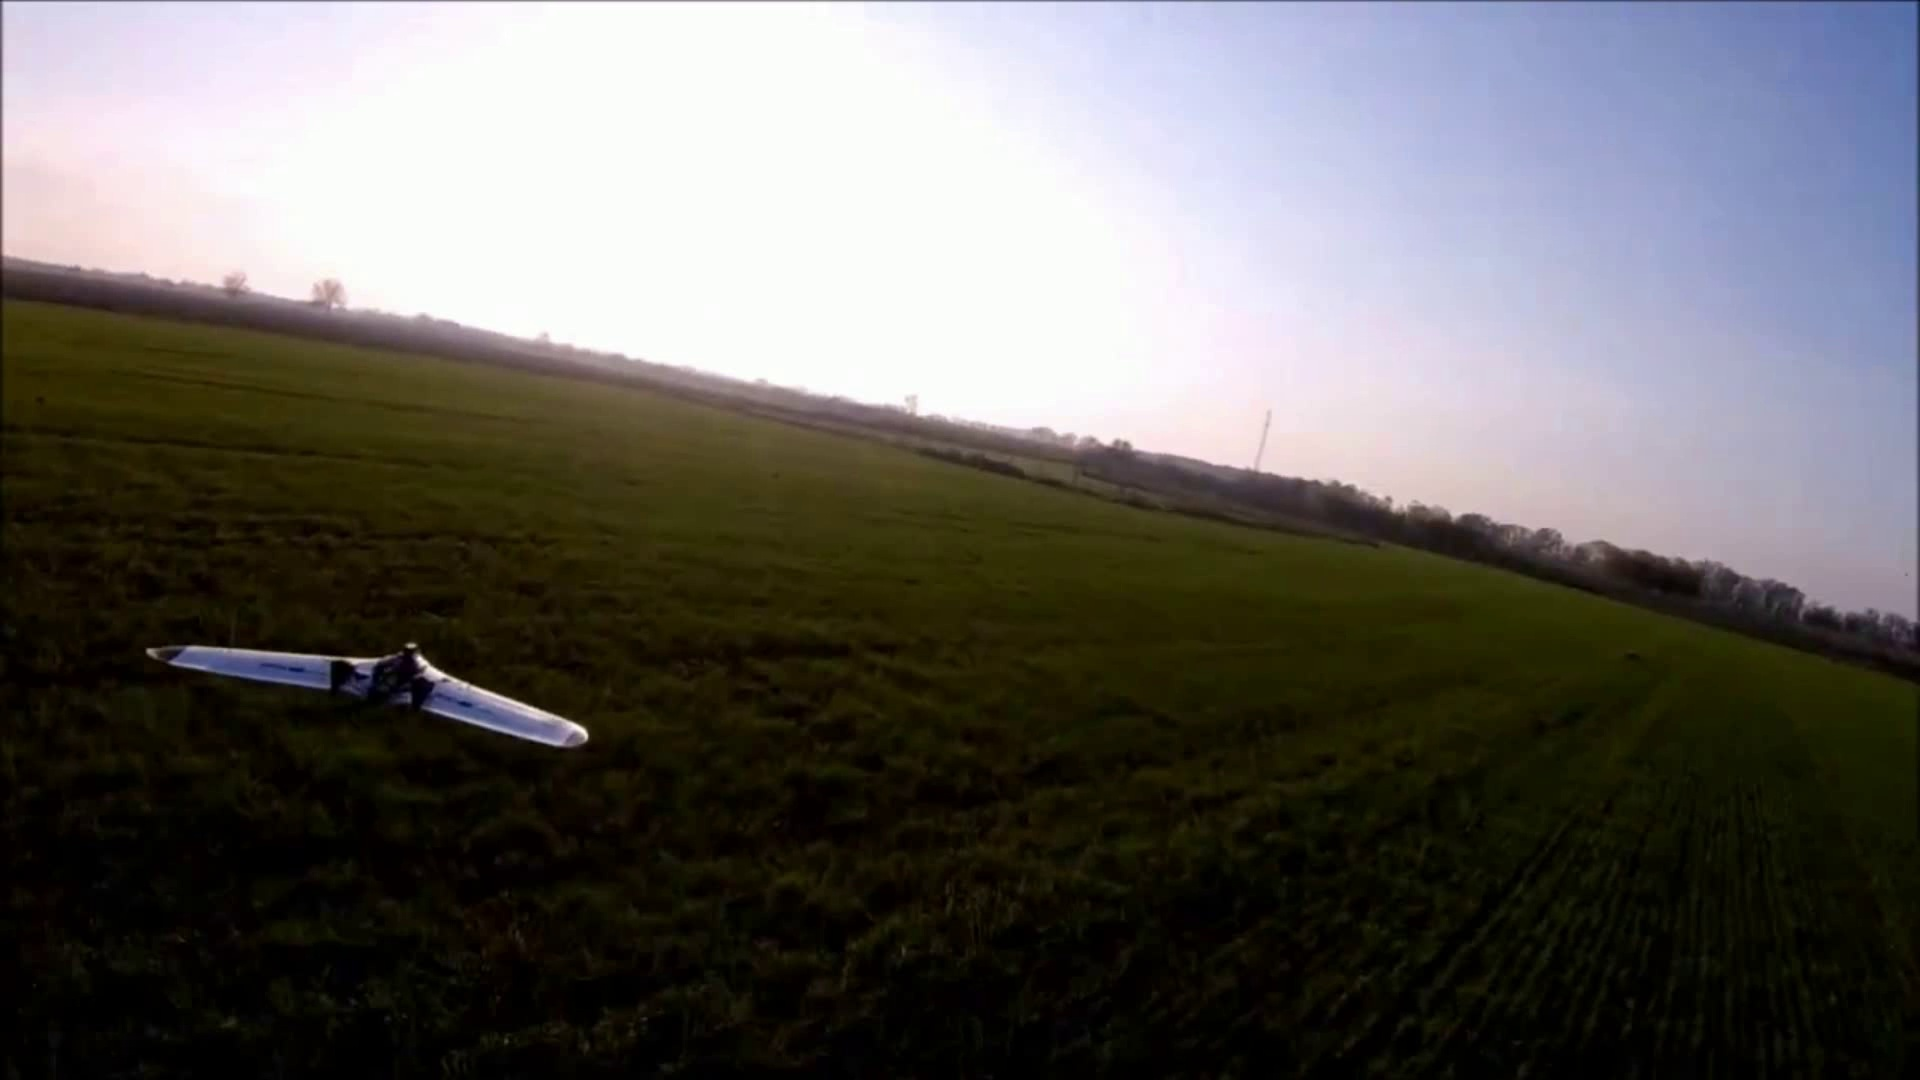airplane: (142, 640, 591, 754)
